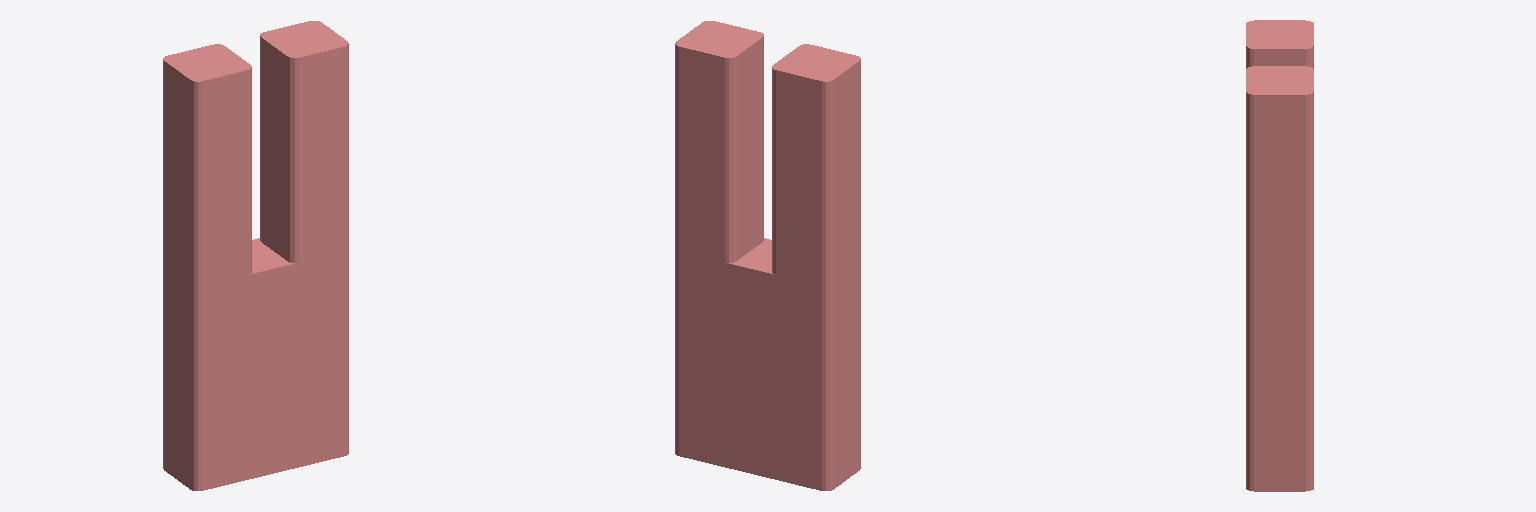
robot.urdf — Small_Short_DoubleSquare_JeansRed:
<?xml version="1.0"?>
<robot name="Small_Short_DoubleSquare_JeansRed">
    <link name="Small_Short_DoubleSquare_JeansRed">
        <visual>
            <geometry>
                <mesh filename="../mesh/factory_insertion/Small_Short_DoubleSquare_JeansRed.obj" scale="0.001 0.001 0.001"/>
            </geometry>
            <material name="JeansRed">
              <color rgba="0.91 0.6 0.6 0"/>
            </material>
        </visual>
        <collision>
            <geometry>
                <mesh filename="../mesh/factory_insertion/Small_Short_DoubleSquare_JeansRed.obj" scale="0.001 0.001 0.001"/>
            </geometry>
            <sdf resolution="512"/>
        </collision>
    </link>
</robot>

--- Facts derived from the render (not from the file) ---
Views: 3 orthographic renders of the robot side by side, from view 1: azimuth 30°, elevation 25°; view 2: azimuth 150°, elevation 25°; view 3: azimuth 270°, elevation 25°.
Model Small_Short_DoubleSquare_JeansRed with 1 links and 0 joints (none), rooted at Small_Short_DoubleSquare_JeansRed, posed every joint at zero.
Links seen in each view (by area): view 1: Small_Short_DoubleSquare_JeansRed; view 2: Small_Short_DoubleSquare_JeansRed; view 3: Small_Short_DoubleSquare_JeansRed.
Boxes of the visible links, bbox=[...] form: Small_Short_DoubleSquare_JeansRed: bbox=[163, 21, 348, 490]; Small_Short_DoubleSquare_JeansRed: bbox=[675, 21, 860, 490]; Small_Short_DoubleSquare_JeansRed: bbox=[1246, 20, 1313, 491].
Size in the robot's own frame: 0.0402 by 0.0154 by 0.1 metres.
1 mesh visuals loaded from 1 distinct referenced files (1 OBJ).
